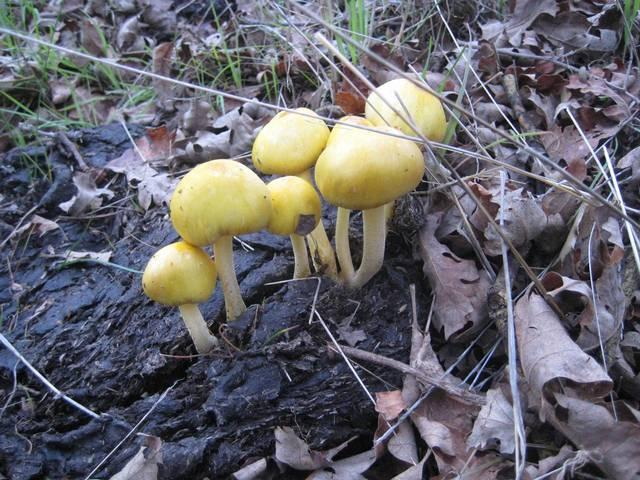Edible Mushroom: (313, 114, 425, 289), (169, 157, 271, 322), (140, 240, 218, 355), (363, 76, 447, 150), (264, 174, 322, 280)
